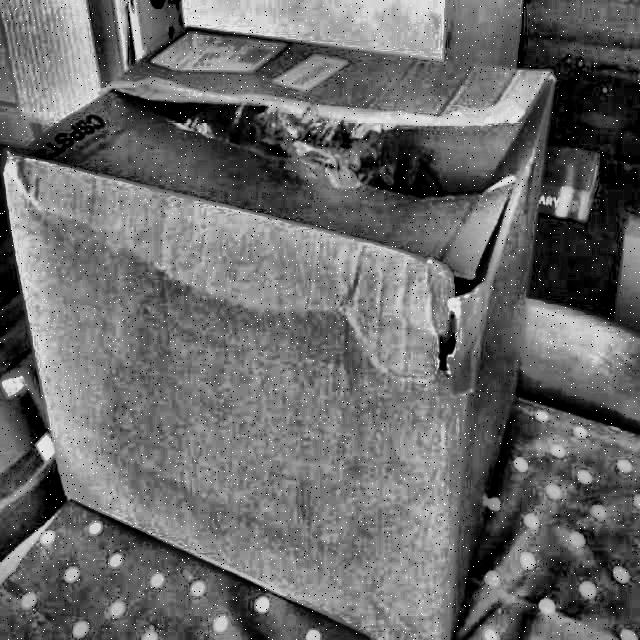box: (0, 7, 574, 639)
hole: (428, 268, 486, 405)
